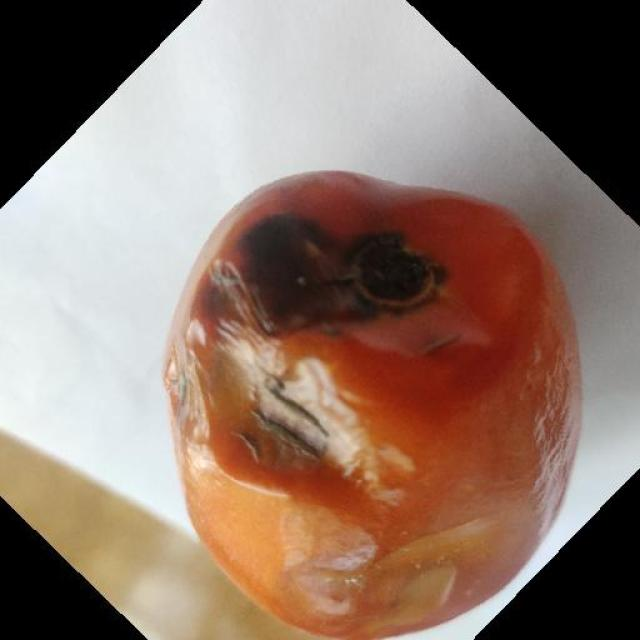Stale_tomato: (152, 163, 552, 630)
